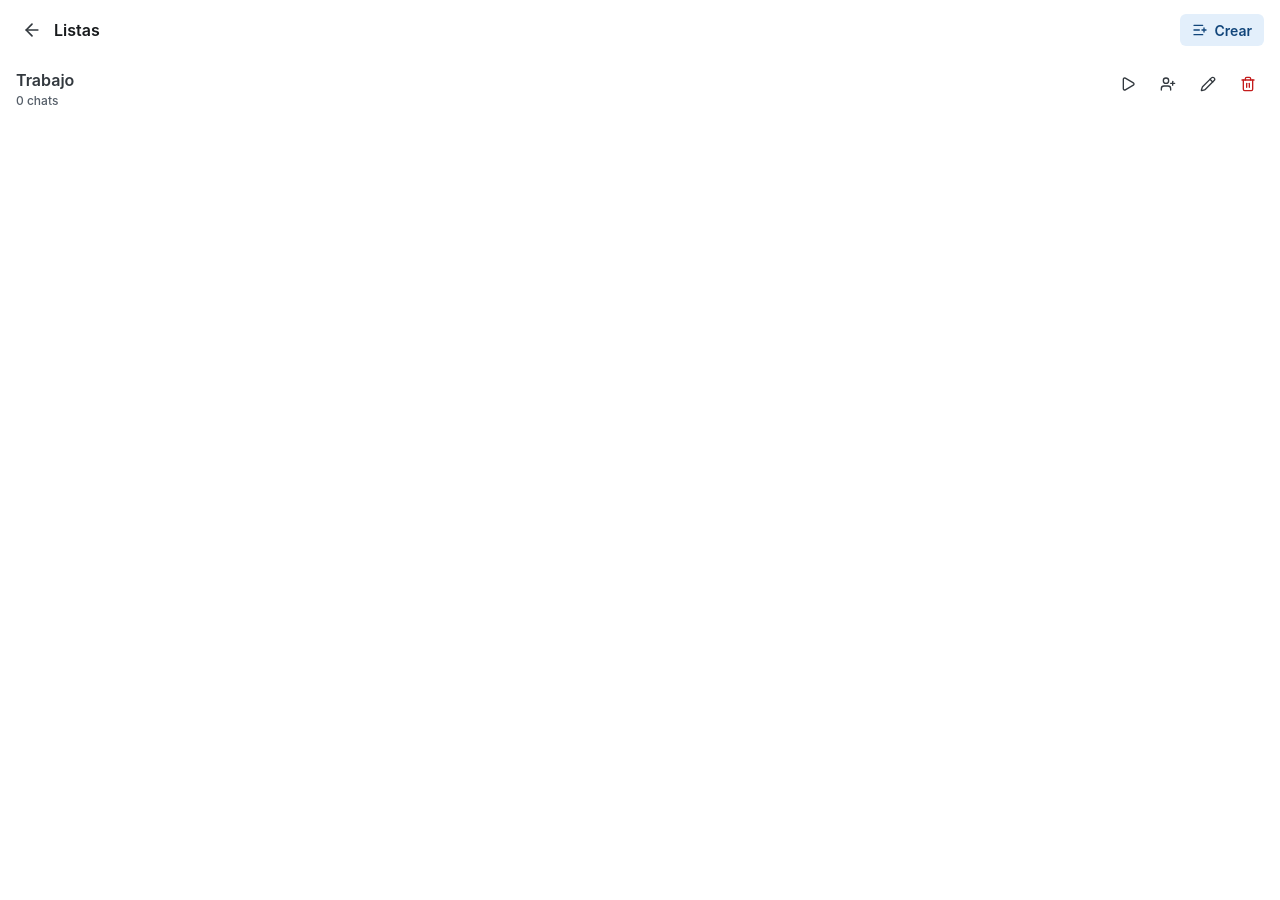
Test case: ListsPanel › renombra la lista
The width and height of the screenshot is (1280, 900).
Click the button named "Renombrar la lista Trabajo" at (1208, 84), box [1192, 68, 1224, 100]
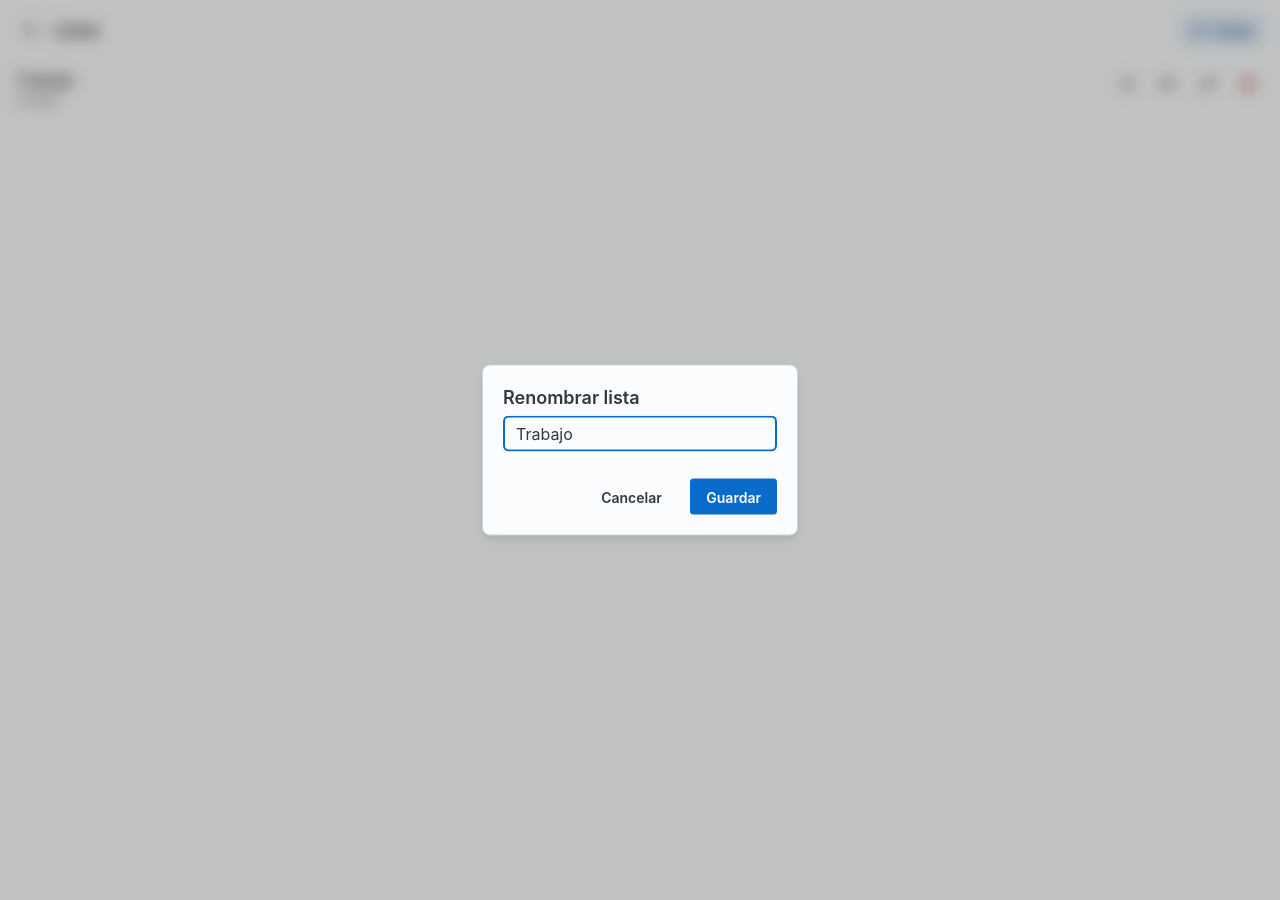
Replace the text in the field named "Nombre de la lista" with "Curro" at (640, 434), box [516, 416, 764, 450]
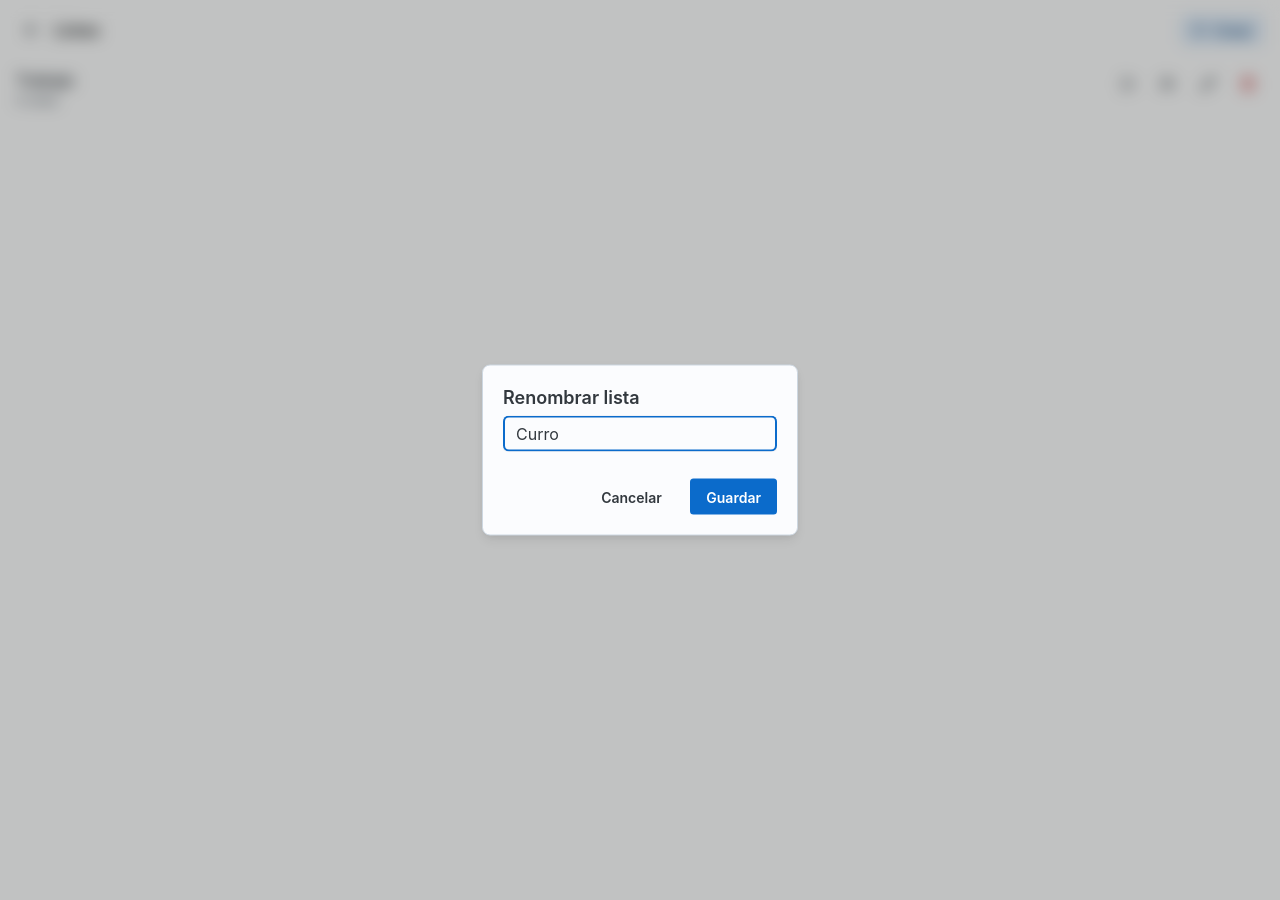
Click the button "Guardar" at (734, 496), box [690, 478, 777, 514]
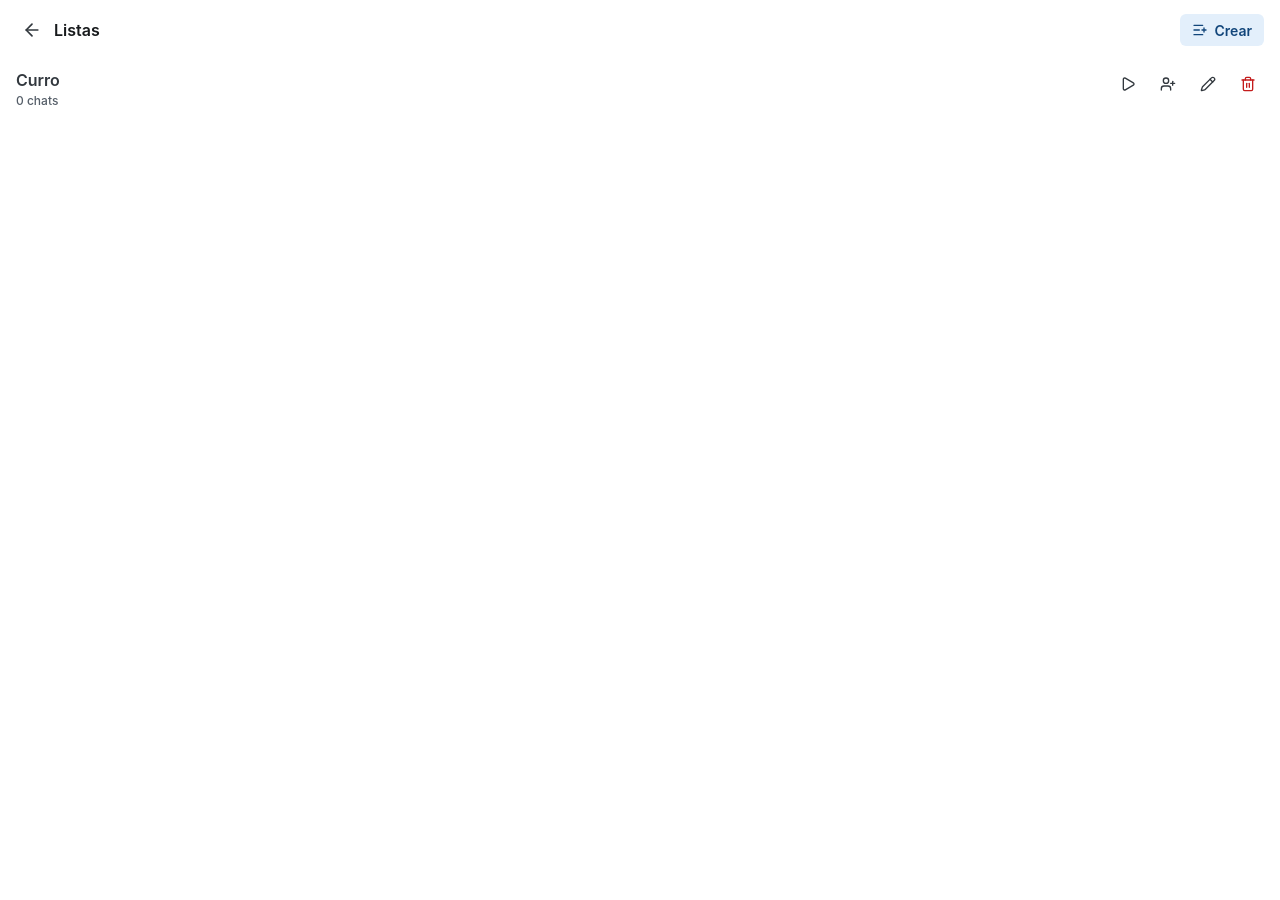
Expected: the text "Curro" is shown, [16, 70, 60, 90]
